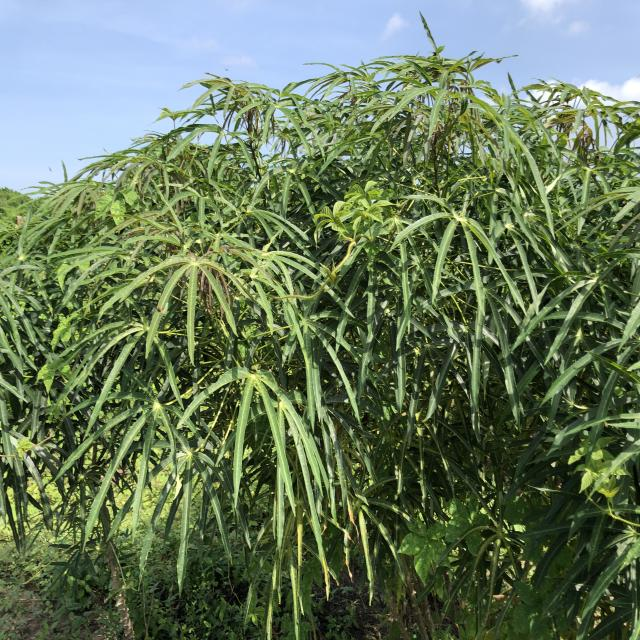Maleza: (328, 182, 390, 241), (582, 439, 634, 509)
Mosca: (151, 304, 164, 316)
